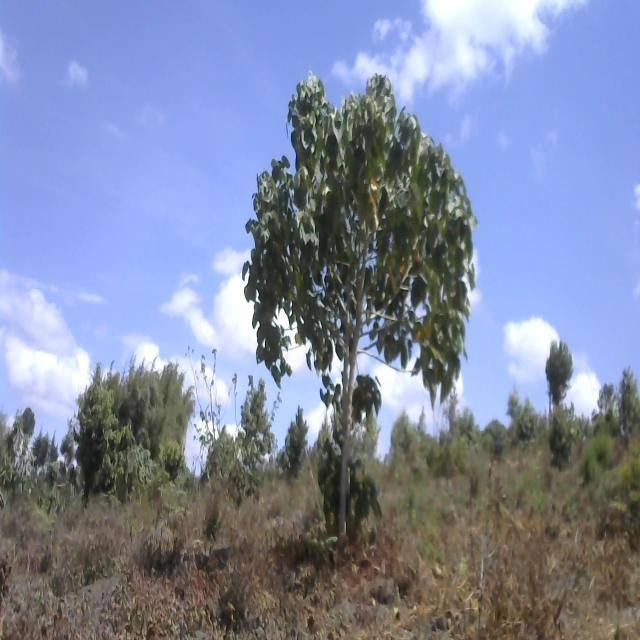cedrus: (14, 401, 36, 462), (32, 425, 47, 482), (48, 422, 59, 472)
other: (242, 56, 481, 544), (75, 375, 118, 492), (540, 328, 578, 458)
